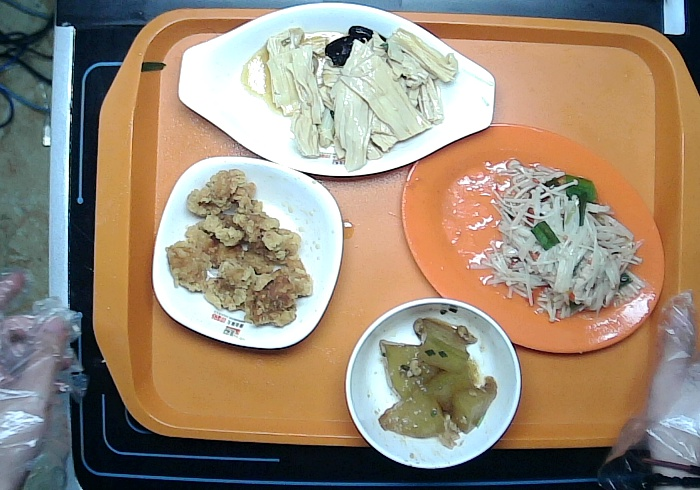NLDX-Bai_Se_Xiao_Fang_Die: (151, 154, 346, 350)
NLDX-Fan_Wan: (341, 296, 524, 470)
NLDX-Ju_Se_Pan: (399, 120, 667, 358)
NLDX-Yu_Pan: (176, 1, 498, 180)
